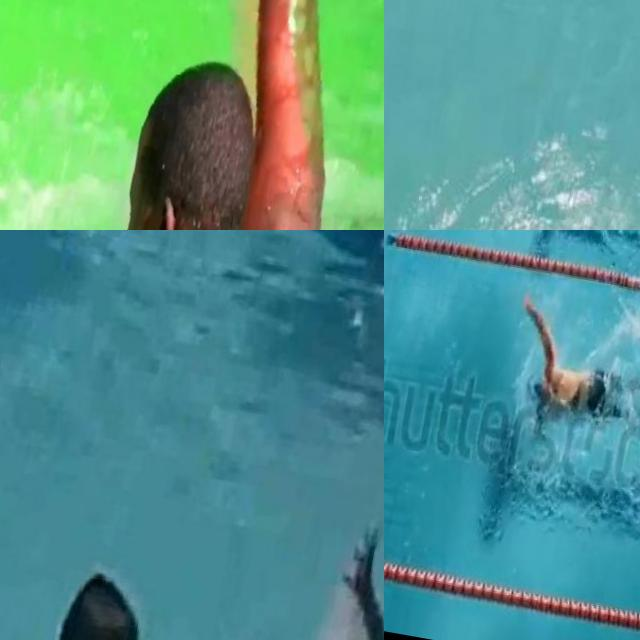swimming: (44, 0, 384, 230), (470, 276, 640, 458), (0, 512, 191, 640)
